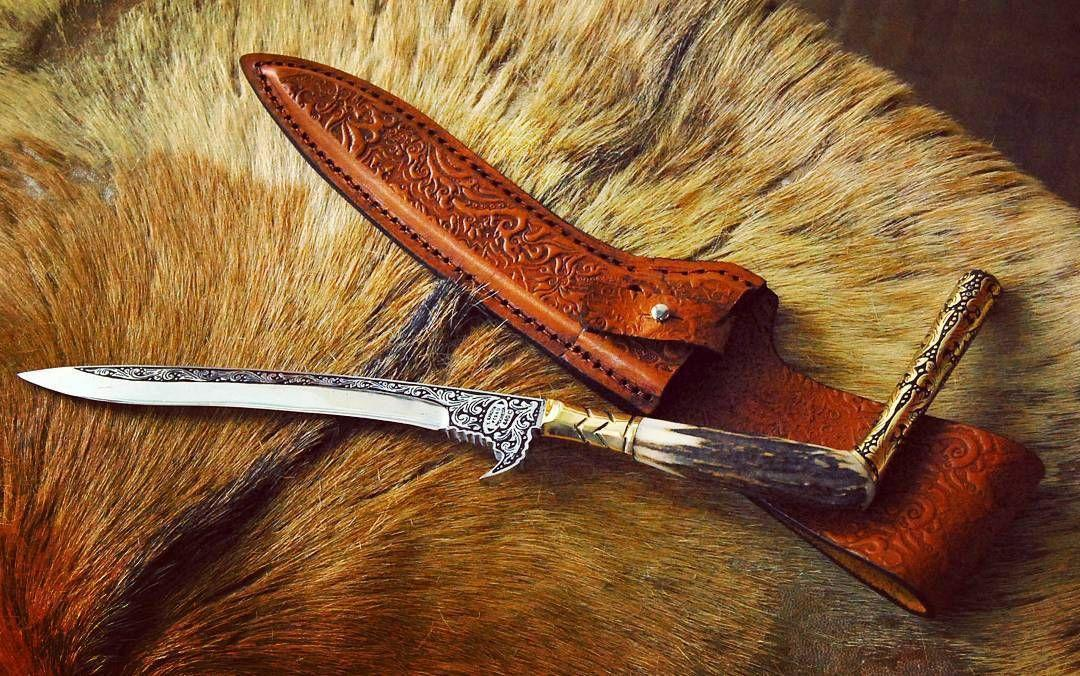facao: (18, 336, 941, 509)
